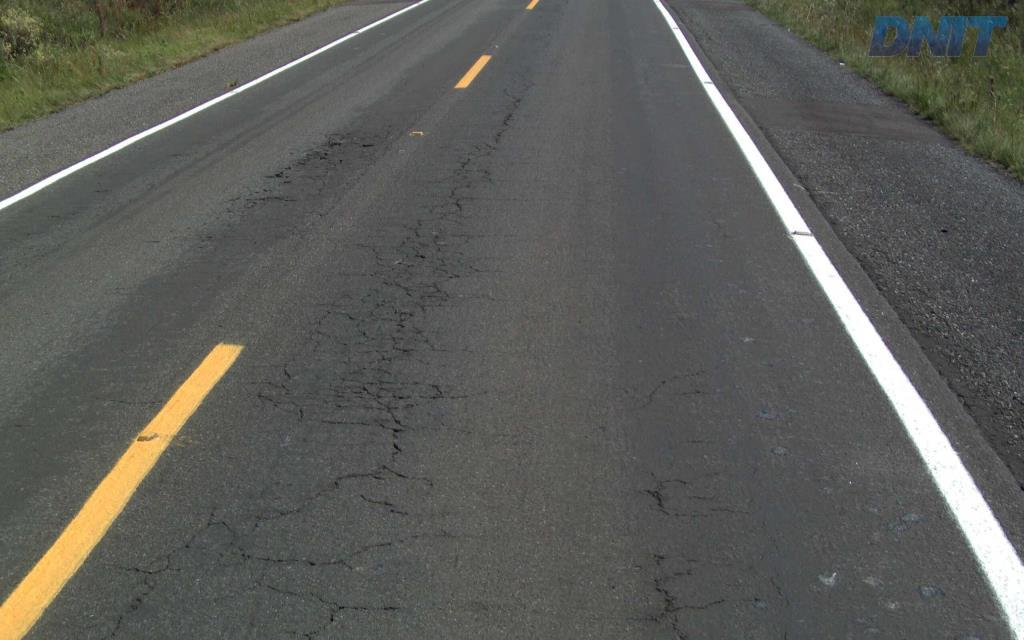crack: (626, 568, 725, 639), (328, 375, 411, 439)
